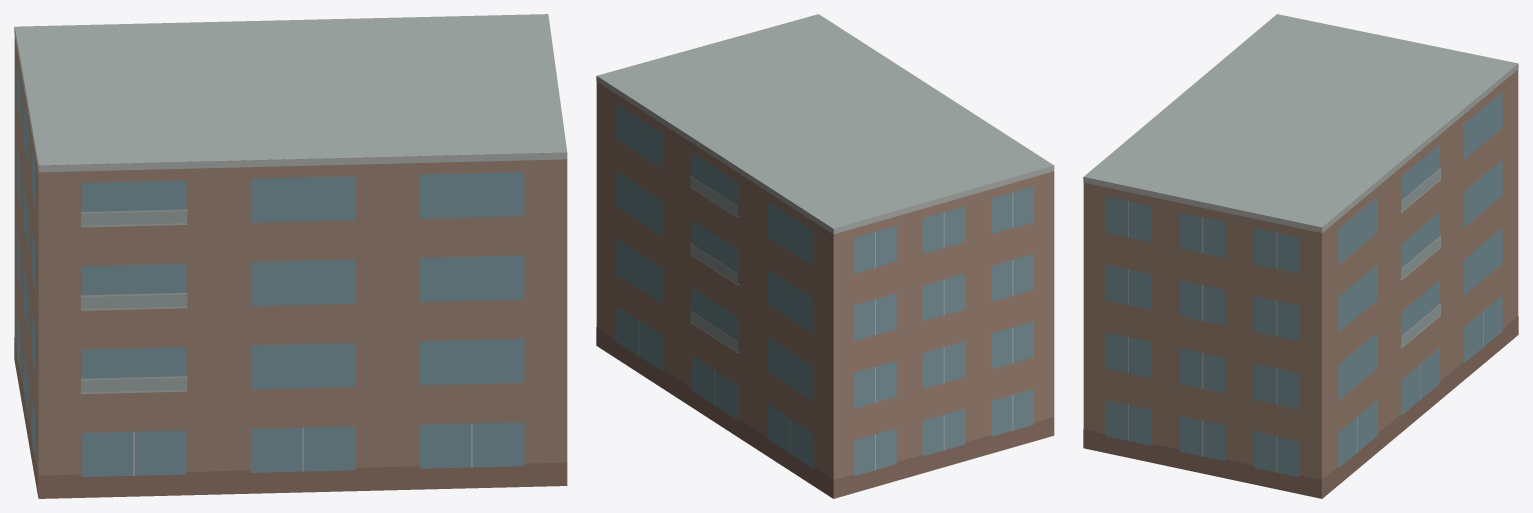
Rendered from survey-upis-32890000.glb.
3 renders of one model, left to right at view 1: azimuth 30°, elevation 25°; view 2: azimuth 150°, elevation 25°; view 3: azimuth 270°, elevation 25°, orthographic. The views are drawn at different scales.
Visible parts, largest first — view 1: survey-upis-32890000.tmp; view 2: survey-upis-32890000.tmp; view 3: survey-upis-32890000.tmp.
Boxes of the visible parts, left/top/right/bottom form: survey-upis-32890000.tmp: left=14, top=14, right=567, bottom=498; survey-upis-32890000.tmp: left=596, top=14, right=1054, bottom=498; survey-upis-32890000.tmp: left=1083, top=14, right=1518, bottom=498.
Size of the model in its own units: 19.75 by 11.7 by 17.
